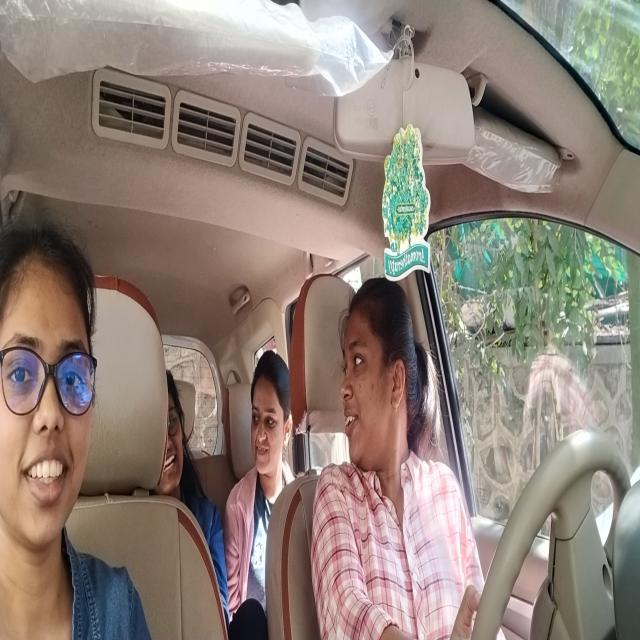LeftRight: (336, 263, 428, 488)
person: (0, 212, 104, 557), (243, 344, 295, 483), (168, 361, 192, 505)
